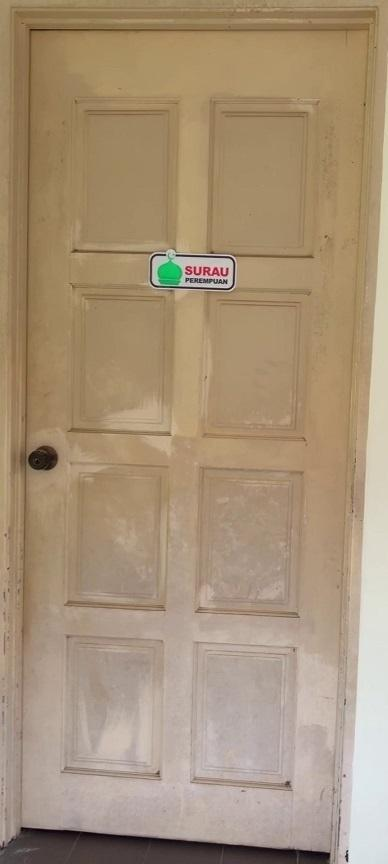door: (14, 9, 383, 864)
